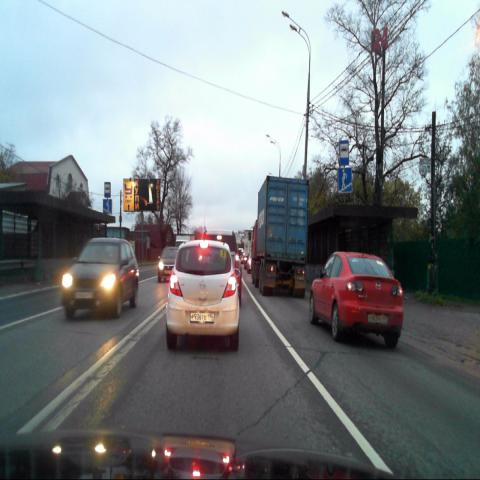6_6: (338, 168, 352, 192)
